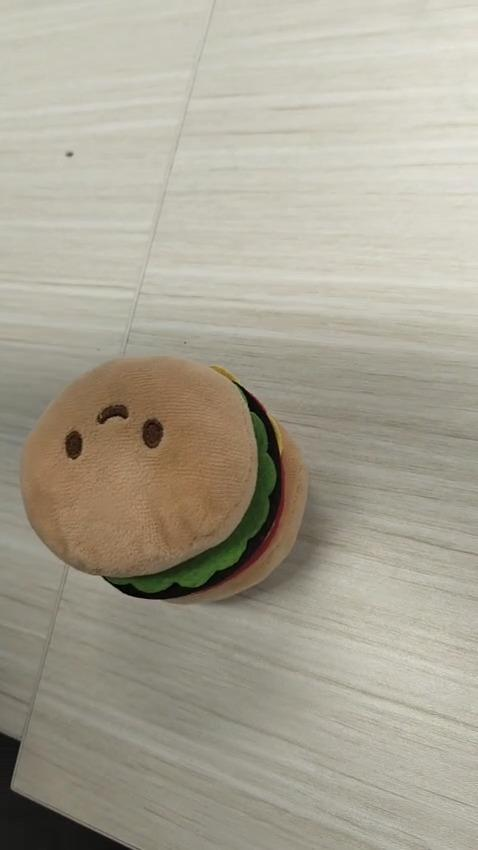hamburger: (19, 353, 309, 605)
